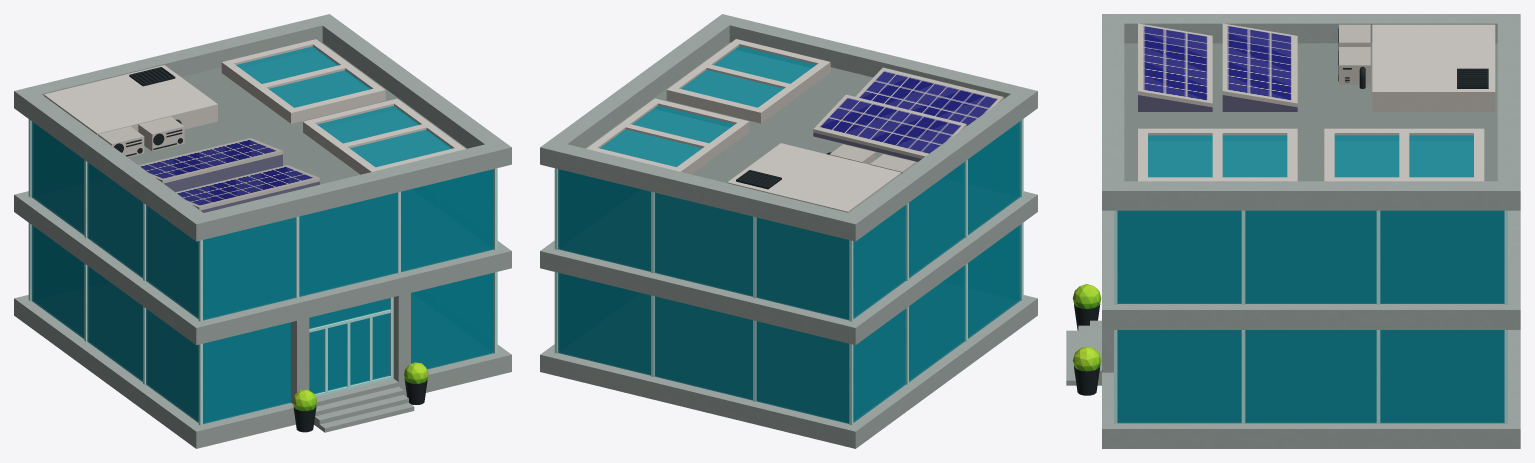
The model's file is Office_lvl1.fbx.
The picture shows the model from 3 angles, left to right: view 1: azimuth 30°, elevation 25°; view 2: azimuth 150°, elevation 25°; view 3: azimuth 270°, elevation 25°; orthographic projection. The views are drawn at different scales.
Visible parts, largest first — view 1: Office_lvl1; view 2: Office_lvl1; view 3: Office_lvl1.
Part boxes in pixels (x1,y1,x2,y2): Office_lvl1: [14, 14, 511, 448]; Office_lvl1: [540, 14, 1037, 448]; Office_lvl1: [1066, 14, 1520, 448].
Bounding box in the file's own units: 956 × 655 × 1037.
2 materials, 2 textured.
